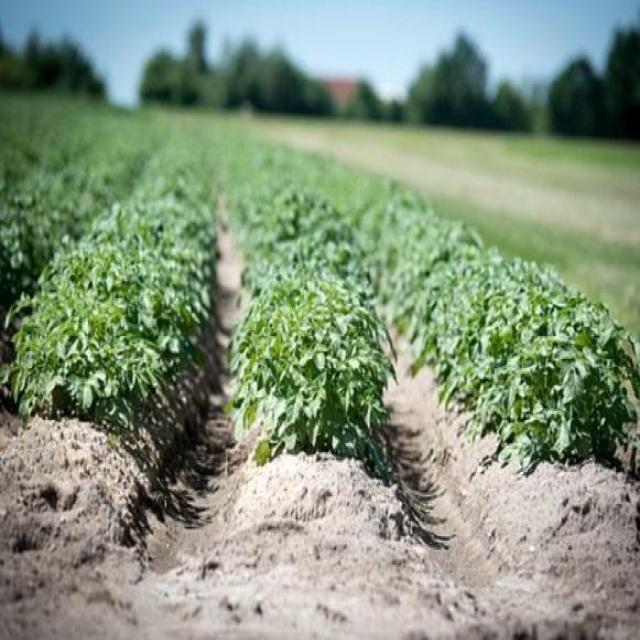row: (363, 282, 562, 544), (138, 224, 262, 521)
